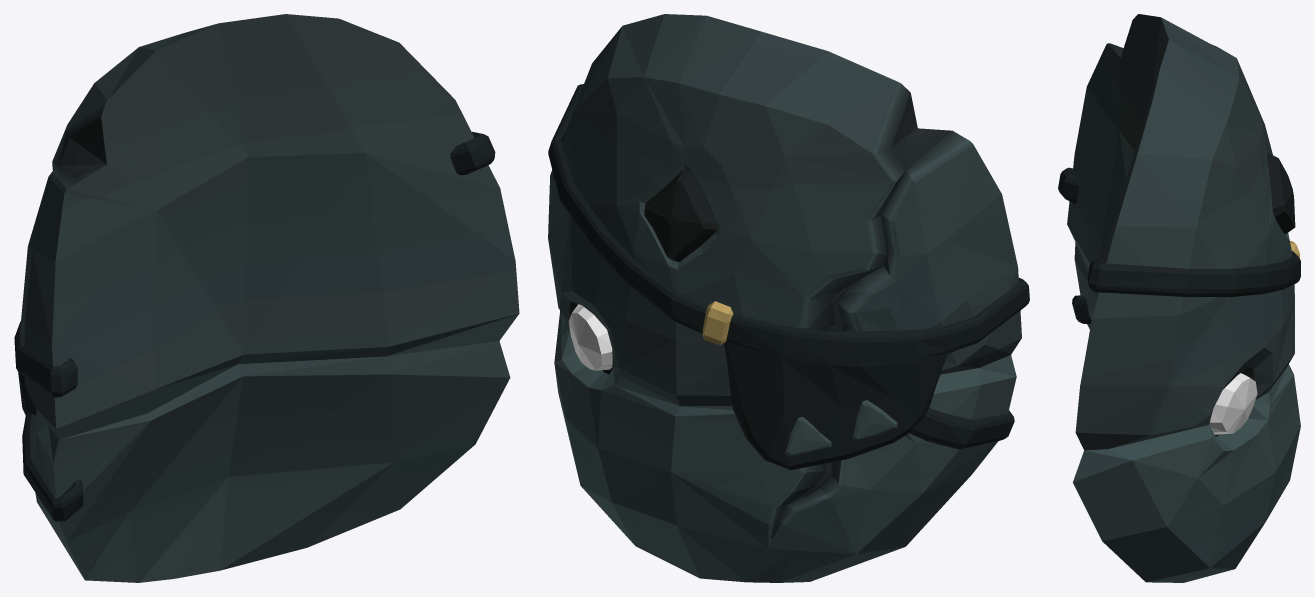
The model's file is CharSkyKid_Mask_TreasureEyePatch.glb.
3 renders of one model, left to right at view 1: azimuth 30°, elevation 25°; view 2: azimuth 150°, elevation 25°; view 3: azimuth 270°, elevation 25°, orthographic. The views are drawn at different scales.
Parts seen in each view (by area): view 1: CharSkyKid_Mask_TreasureEyePatch; view 2: CharSkyKid_Mask_TreasureEyePatch; view 3: CharSkyKid_Mask_TreasureEyePatch.
Boxes of the visible parts, bbox=[...] form: CharSkyKid_Mask_TreasureEyePatch: bbox=[14, 14, 519, 582]; CharSkyKid_Mask_TreasureEyePatch: bbox=[548, 14, 1029, 582]; CharSkyKid_Mask_TreasureEyePatch: bbox=[1058, 14, 1300, 582].
Bounding box in the file's own units: 2.18 × 2.49 × 1.07.
Materials: 1 (1 with a texture image).
